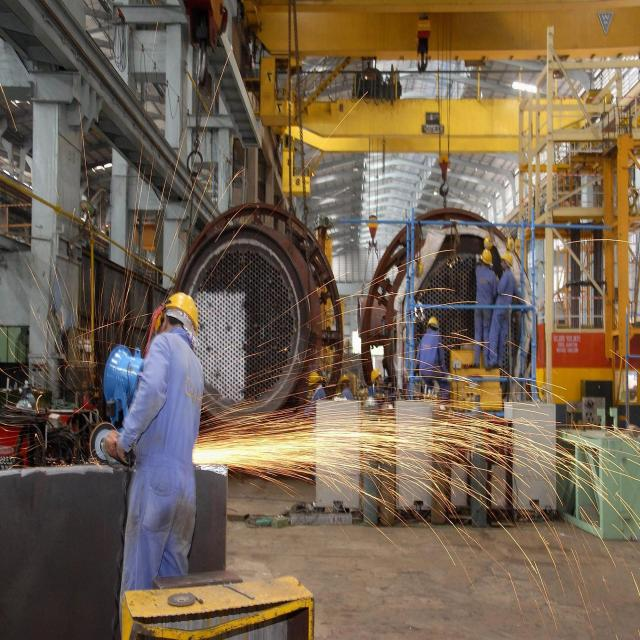Safety-Helmet: (161, 288, 201, 331), (482, 250, 494, 266), (370, 368, 381, 382), (502, 252, 513, 266), (428, 316, 439, 328)
